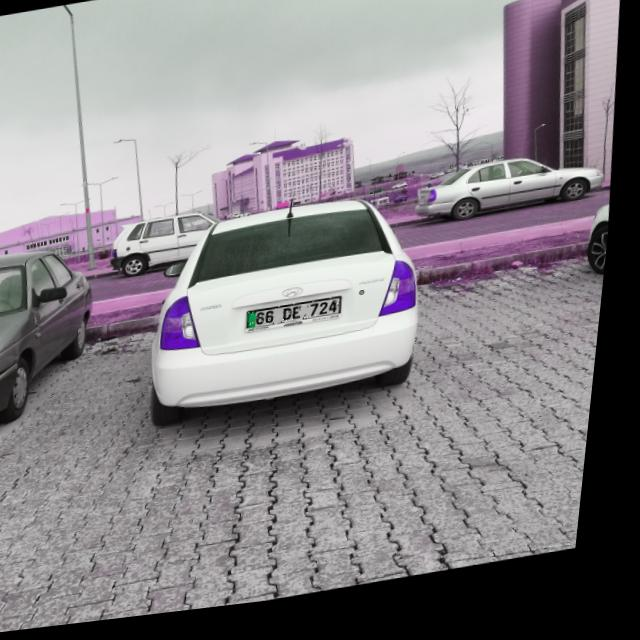license_plate: (254, 305, 349, 336)
